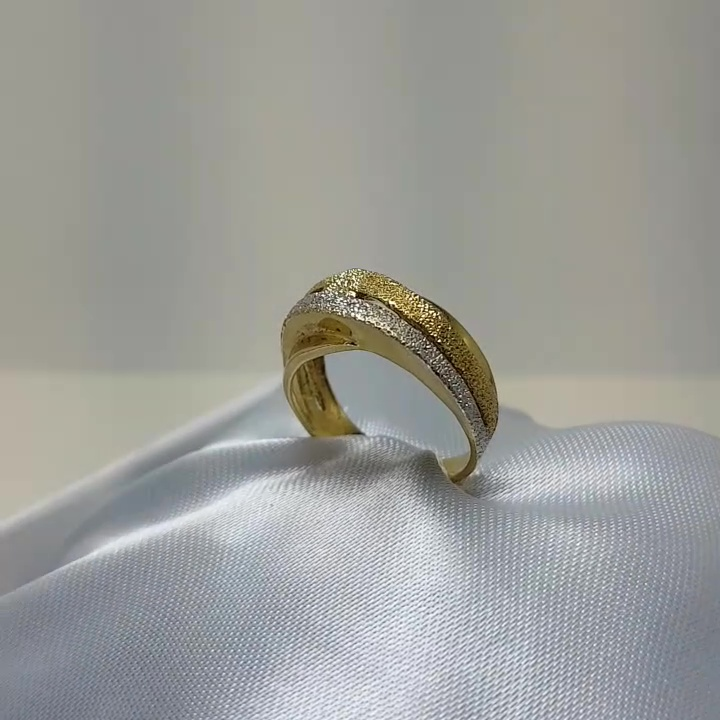Ring 5: (241, 229, 511, 517)
